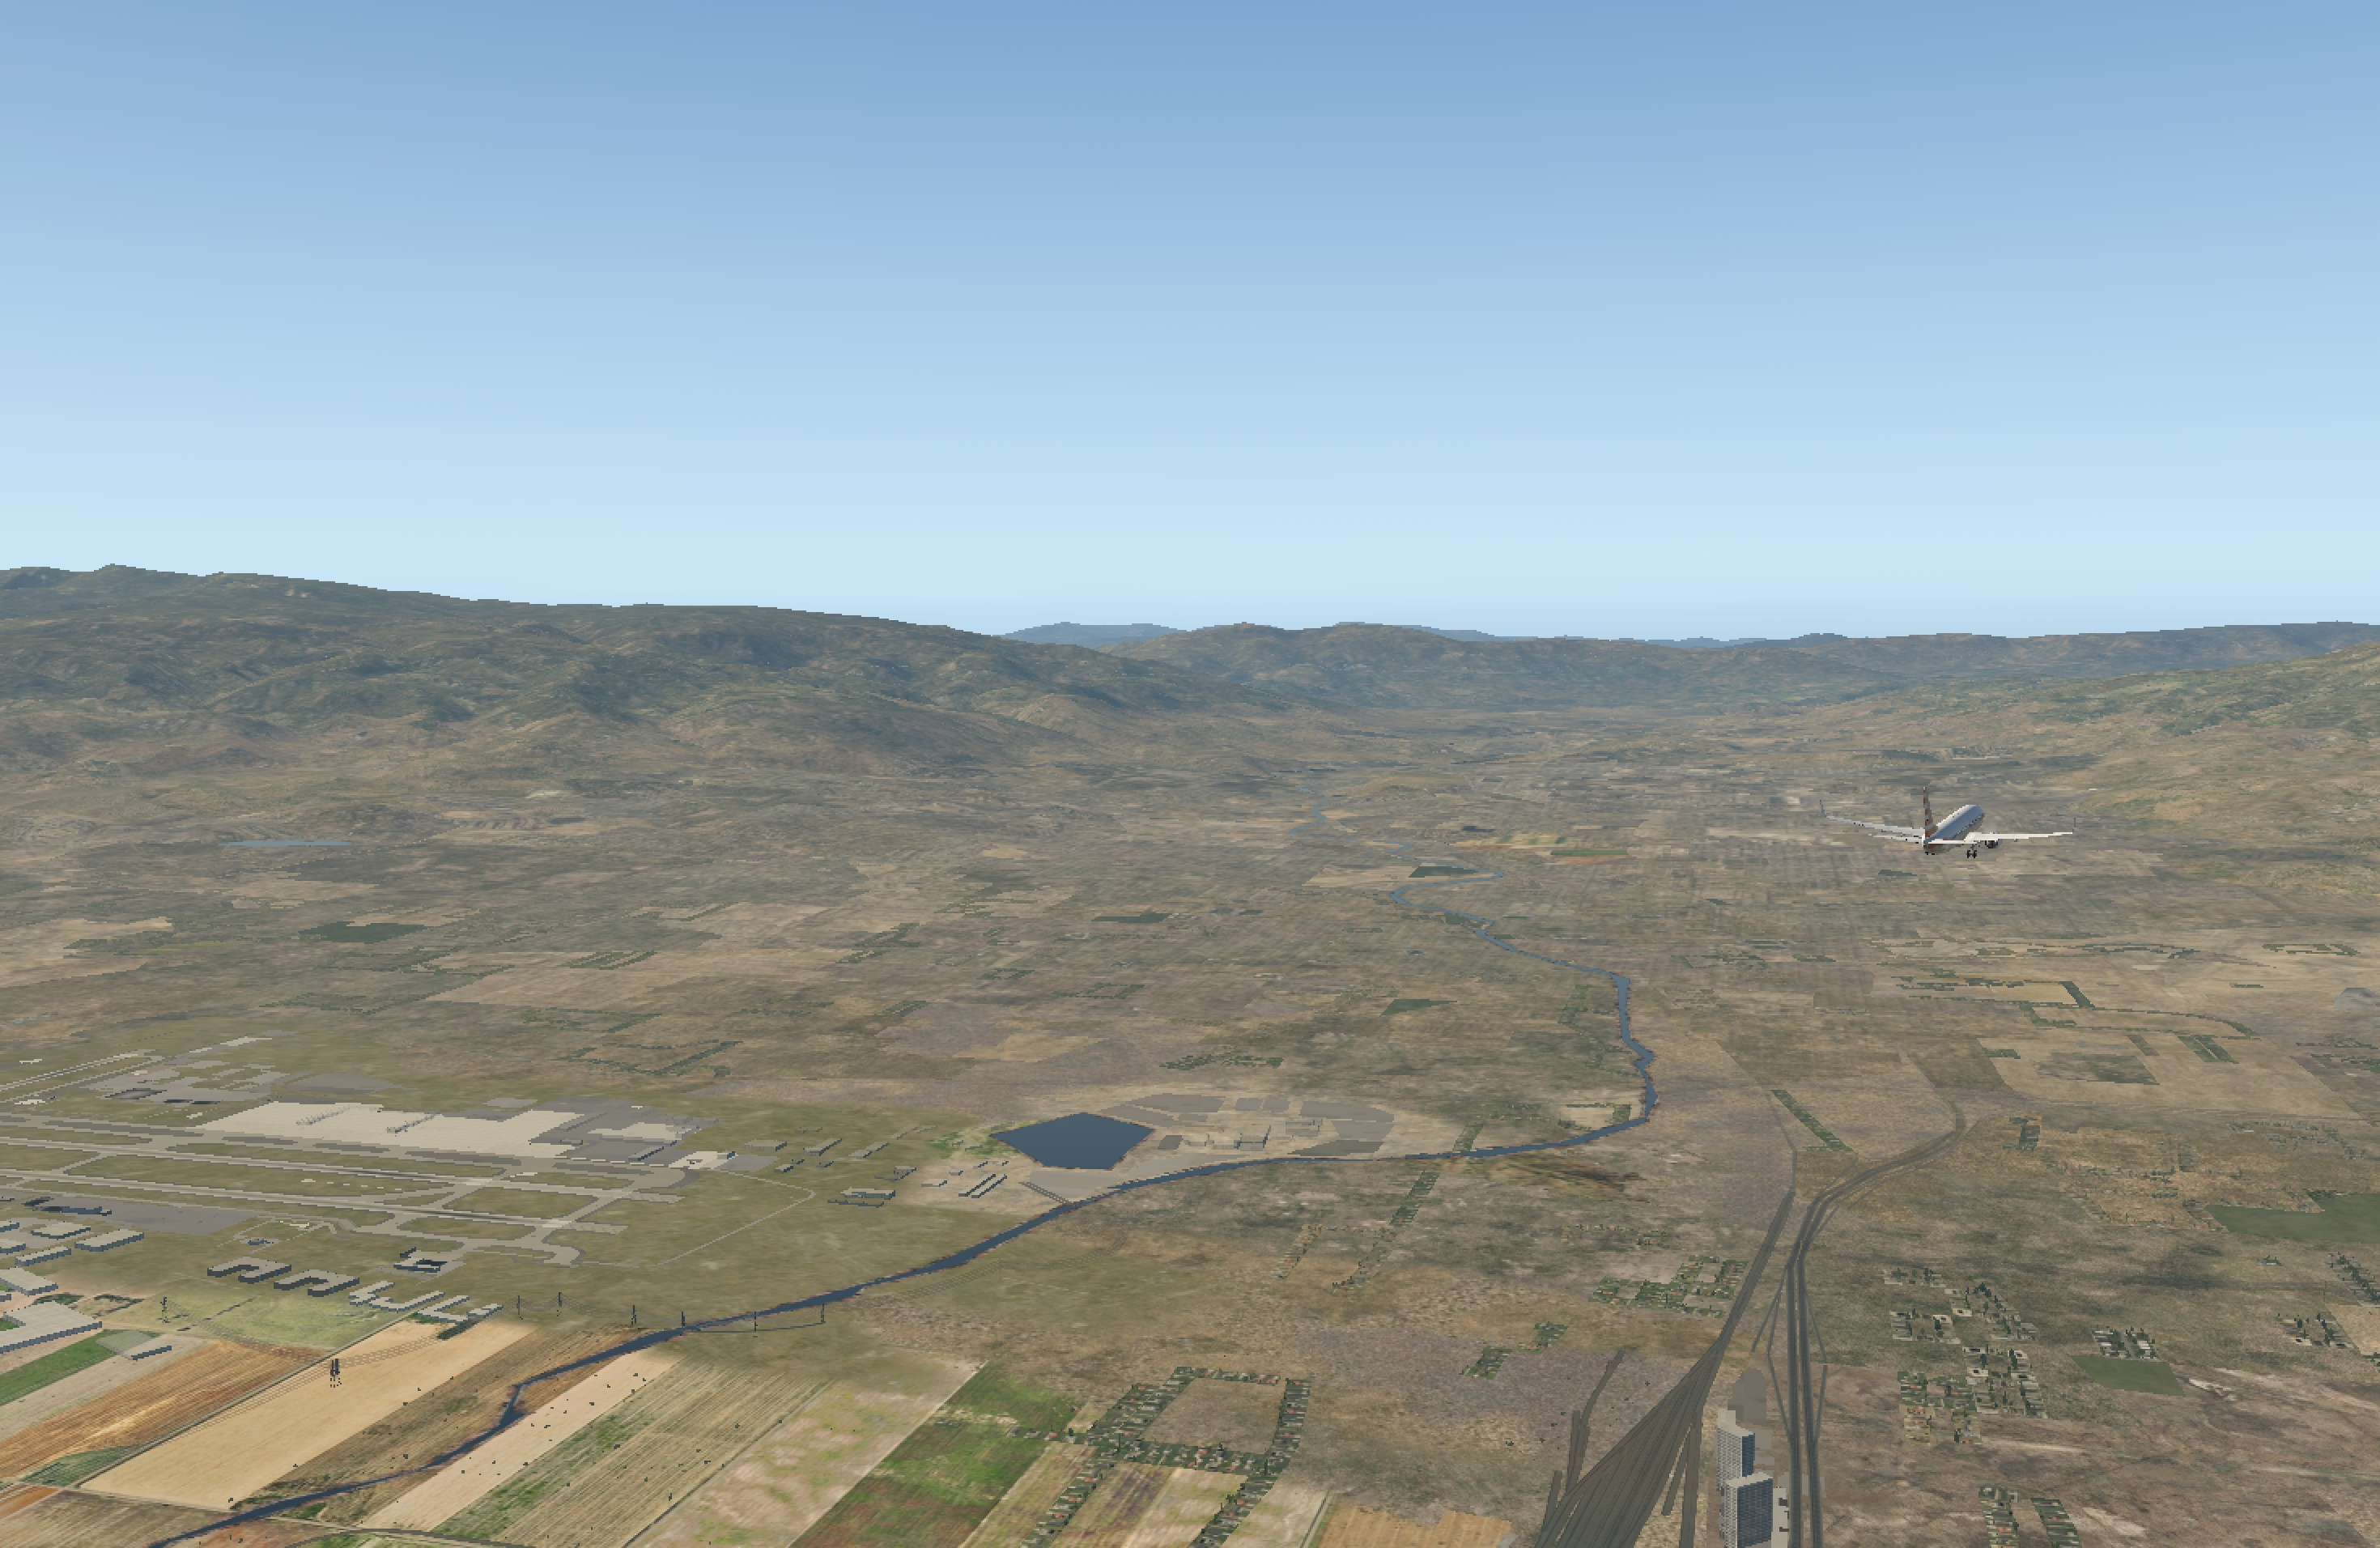aircraft: (1827, 786, 2080, 882)
